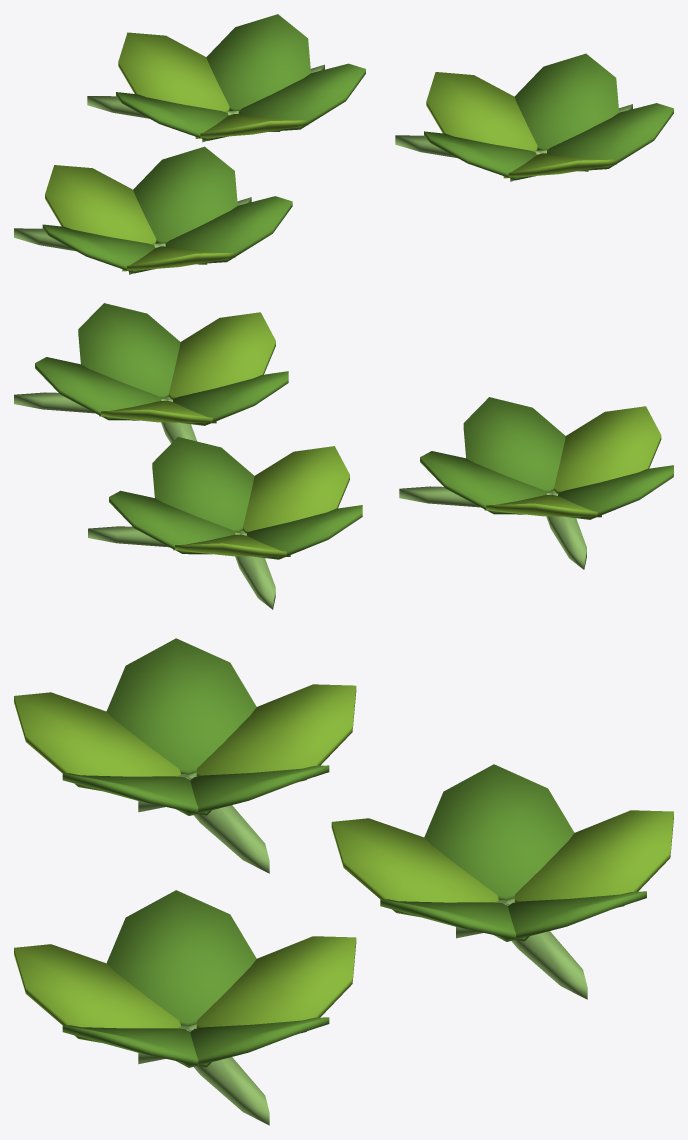
The model's file is stage_2_leaf.glb.
The picture shows the model from 3 angles, top to bottom: view 1: azimuth 30°, elevation 25°; view 2: azimuth 150°, elevation 25°; view 3: azimuth 270°, elevation 25°; orthographic projection. The views are drawn at different scales.
Parts seen in each view (by area): view 1: 大叶, 大叶.005, 大叶.010, 大叶.001, 大叶.011, 大叶.006, 大叶.014, 大叶.004, 大叶.009, 大叶.002, 大叶.012, 大叶.007 (+6 smaller); view 2: 大叶.014, 大叶.009, 大叶.004, 大叶.003, 大叶.008, 大叶.013, 大叶, 大叶.005, 大叶.010, 大叶.012, 大叶.007, 大叶.002 (+9 smaller); view 3: 大叶.002, 大叶.007, 大叶.012, 大叶.001, 大叶.006, 大叶.011, 大叶.008, 大叶.013, 大叶.003, 大叶, 大叶.005, 大叶.010 (+6 smaller).
Part boxes in pixels (x1=…): 大叶: x1=133, y1=146, x2=237, y2=243; 大叶.005: x1=514, y1=53, x2=619, y2=150; 大叶.010: x1=206, y1=14, x2=310, y2=111; 大叶.001: x1=45, y1=165, x2=156, y2=244; 大叶.011: x1=118, y1=32, x2=229, y2=112; 大叶.006: x1=426, y1=72, x2=537, y2=151; 大叶.014: x1=238, y1=63, x2=365, y2=131; 大叶.004: x1=165, y1=196, x2=292, y2=263; 大叶.009: x1=547, y1=103, x2=673, y2=170; 大叶.002: x1=42, y1=224, x2=155, y2=273; 大叶.012: x1=116, y1=92, x2=228, y2=140; 大叶.007: x1=424, y1=131, x2=536, y2=180; 大叶.014: x1=152, y1=437, x2=254, y2=532; 大叶.009: x1=78, y1=303, x2=180, y2=398; 大叶.004: x1=463, y1=397, x2=565, y2=492; 大叶.003: x1=554, y1=406, x2=661, y2=493; 大叶.008: x1=169, y1=312, x2=275, y2=399; 大叶.013: x1=243, y1=446, x2=349, y2=533; 大叶: x1=420, y1=451, x2=546, y2=514; 大叶.005: x1=35, y1=357, x2=161, y2=420; 大叶.010: x1=109, y1=490, x2=235, y2=554; 大叶.012: x1=247, y1=505, x2=362, y2=559; 大叶.007: x1=173, y1=371, x2=288, y2=425; 大叶.002: x1=558, y1=465, x2=673, y2=519; 大叶.002: x1=106, y1=638, x2=256, y2=774; 大叶.007: x1=106, y1=890, x2=256, y2=1026; 大叶.012: x1=424, y1=764, x2=574, y2=900; 大叶.001: x1=196, y1=684, x2=356, y2=781; 大叶.006: x1=196, y1=936, x2=356, y2=1033; 大叶.011: x1=514, y1=810, x2=673, y2=907; 大叶.008: x1=14, y1=944, x2=180, y2=1042; 大叶.013: x1=331, y1=818, x2=498, y2=916; 大叶.003: x1=14, y1=692, x2=180, y2=790; 大叶: x1=176, y1=765, x2=329, y2=815; 大叶.005: x1=176, y1=1017, x2=329, y2=1067; 大叶.010: x1=494, y1=891, x2=646, y2=941.
Bounding box in the file's own units: 0.9732 × 0.0948 × 0.6645.
1 material, 1 textured.
